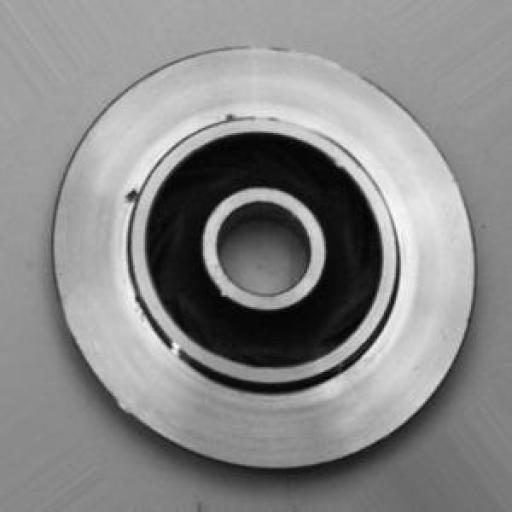defect: (116, 88, 280, 215)
